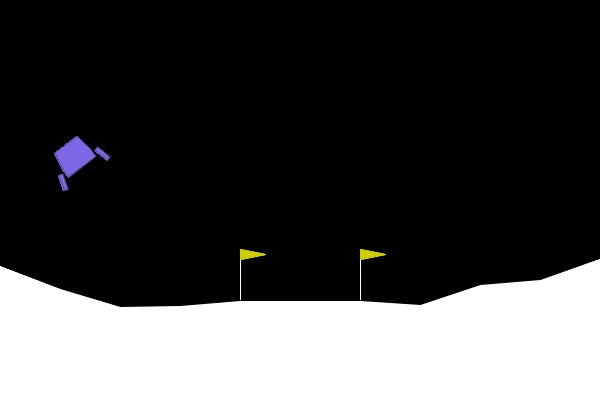lander: (40, 126, 112, 194)
